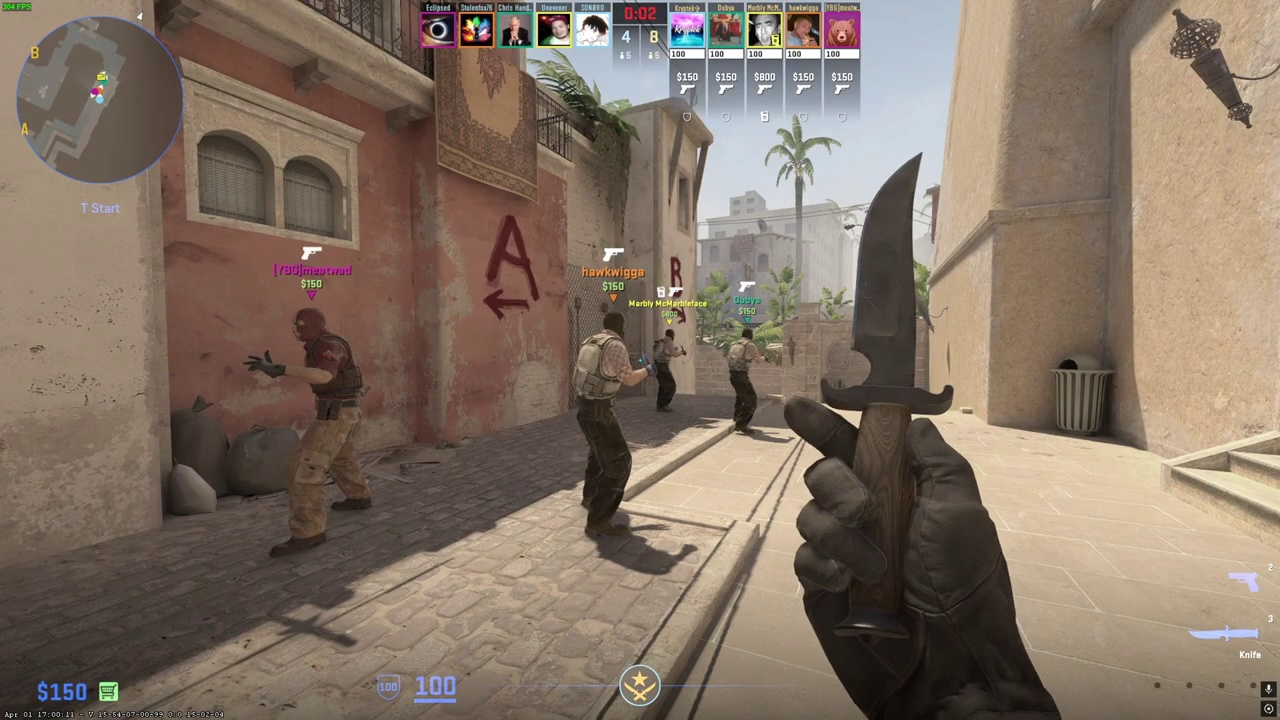Terrorist: (273, 307, 373, 554), (572, 310, 640, 538), (727, 327, 760, 433), (652, 328, 680, 413)
